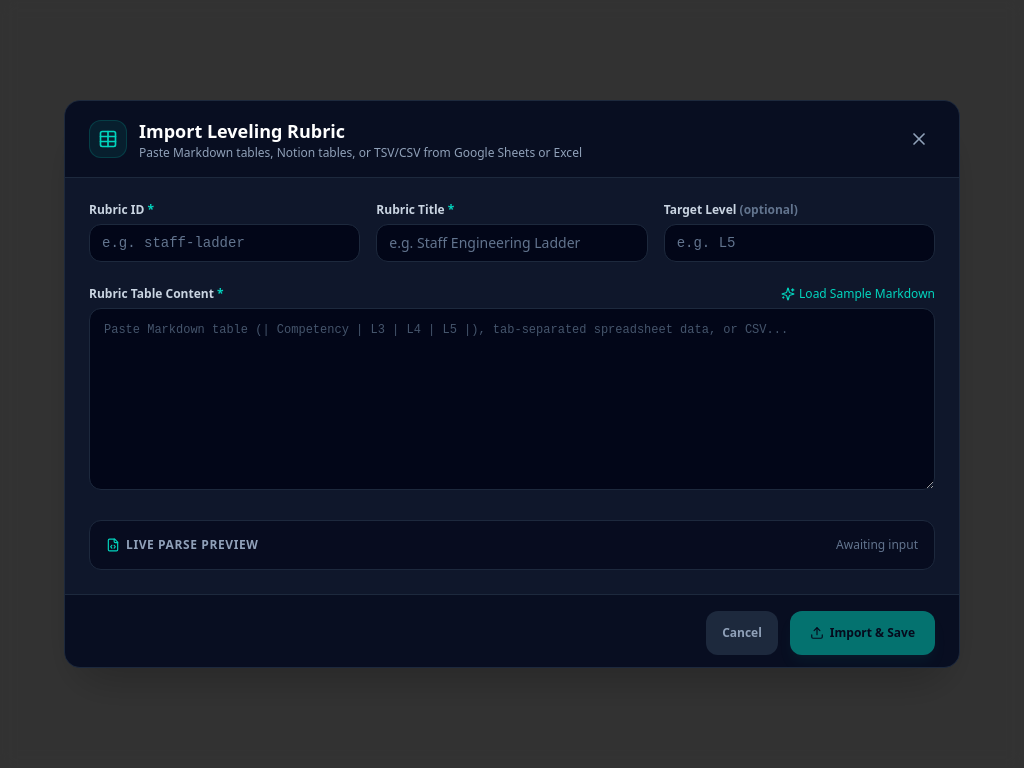
Test case: Rubric Gap Matrix & Brag Doc Generator Tests › Rubric Importer Modal (RubricImporterModal) › displays error feedback when invalid table data is entered
The image size is (1024, 768).
Replace the text in the text box with placeholder "Paste Markdown table" with "invalid single column without pipes". click: (512, 399)
box: 89,308 -> 935,490
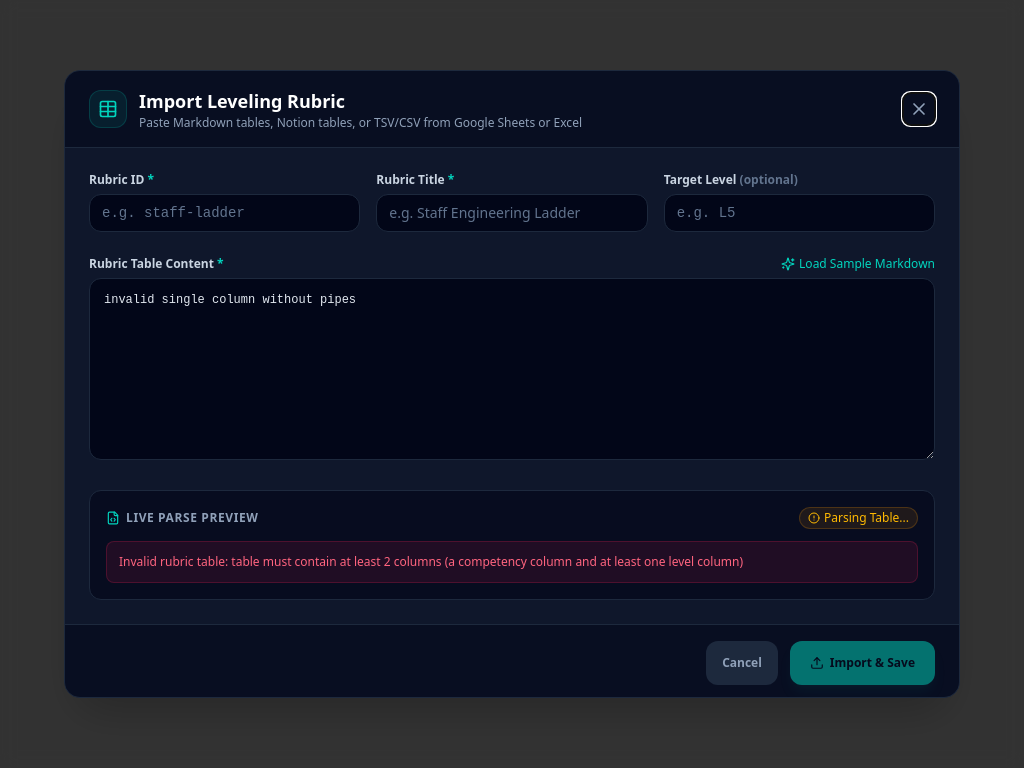
Expected: the button "Import & Save" is disabled, 790,641 -> 935,685
Expected: the text "Invalid rubric table" is shown, 119,553 -> 743,570
